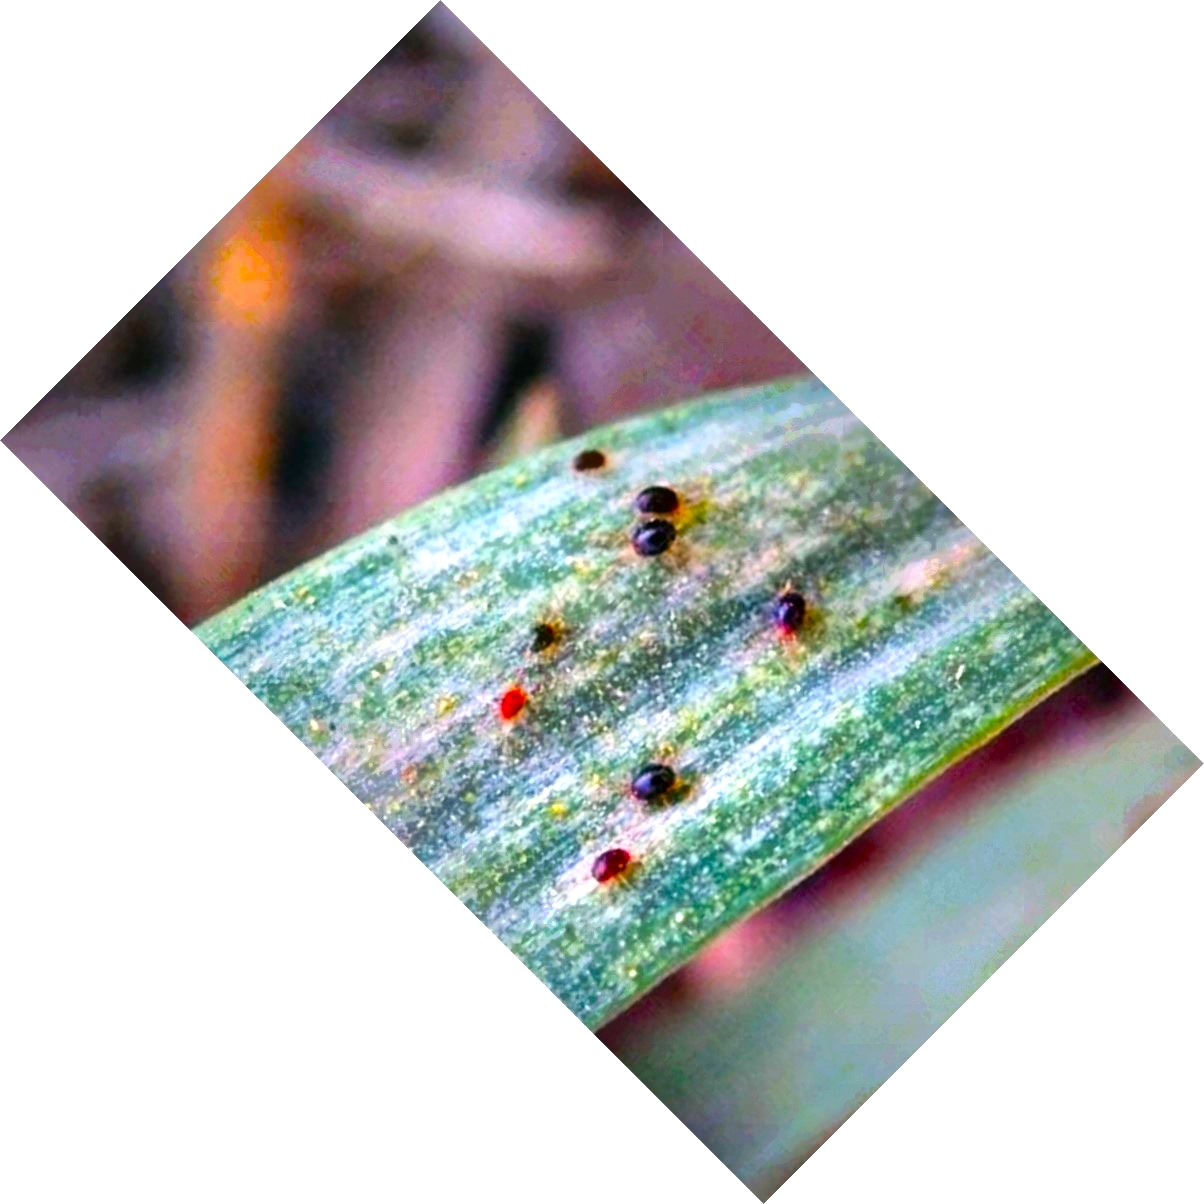Wheat Red Spider: (563, 743, 738, 924), (567, 443, 730, 578), (476, 595, 584, 748)
